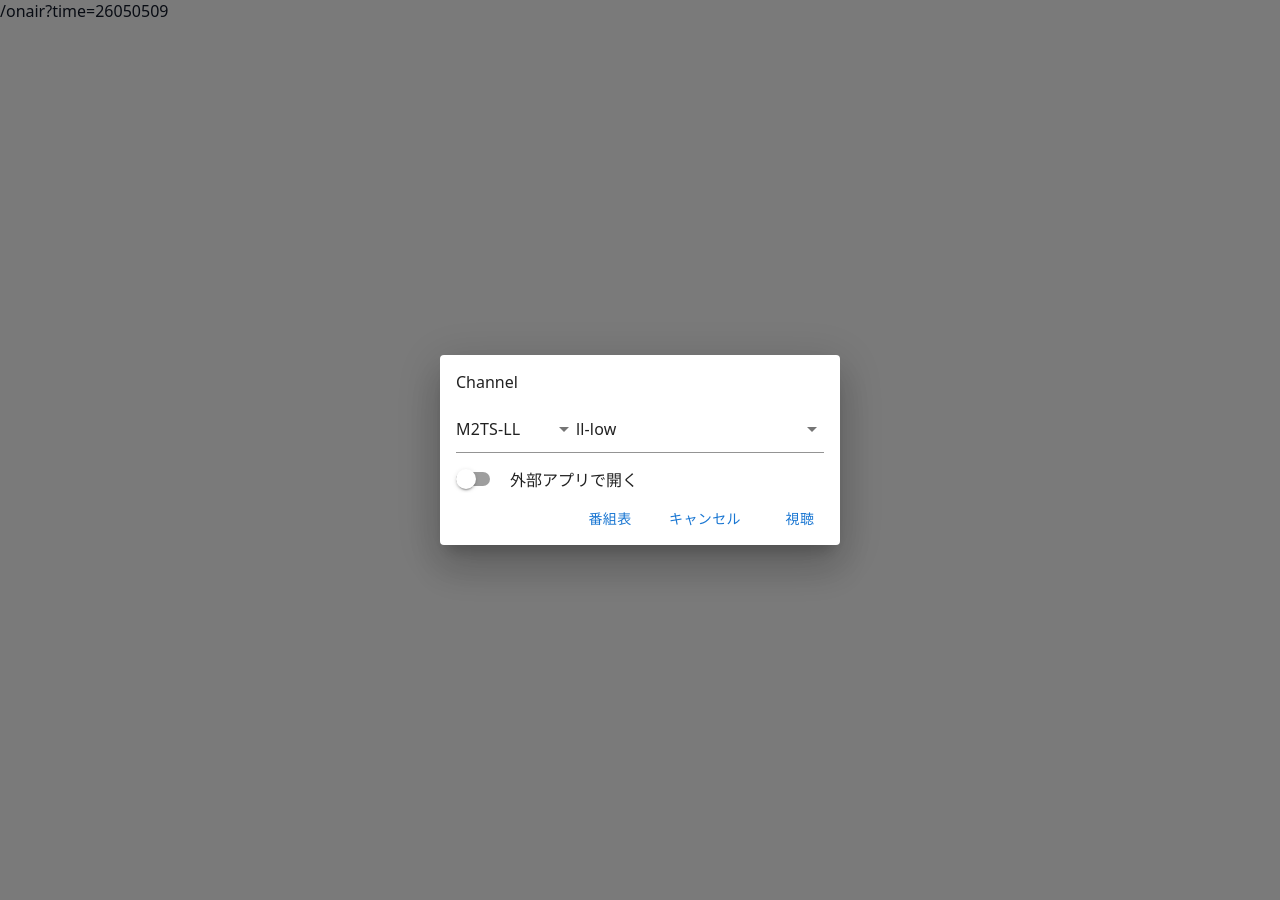
Test: LiveStreamSelectDialog guide navigation › [AC 3.20] carries a valid time query parameter forward to the guide route
Click the button "番組表".
click(610, 519)  # box [578, 501, 642, 537]
Wait 300 ms
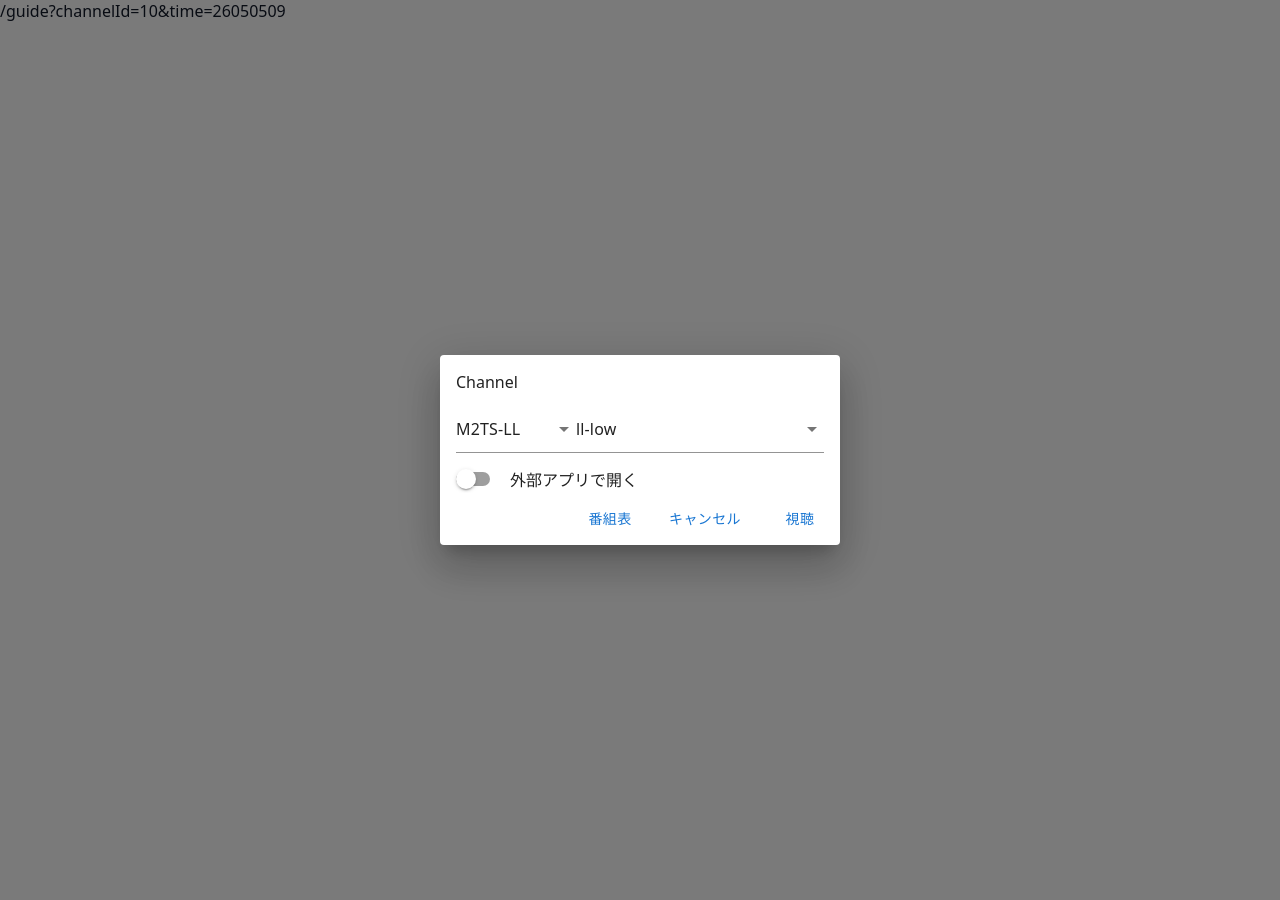
Now the text with test id "location-display" reads "/guide?channelId=10&time=26050509", box [0, 0, 286, 22]
